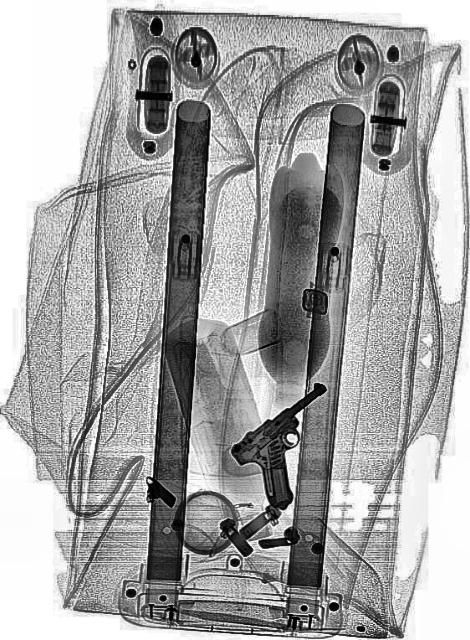Gun: (231, 373, 359, 519)
